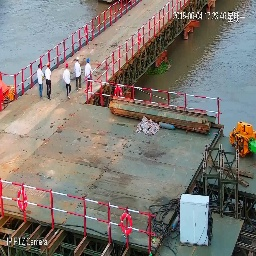helmet: (86, 57, 90, 65), (76, 56, 79, 64), (65, 63, 69, 69)
no-helmet: (38, 64, 42, 71)
no-vest: (63, 69, 70, 87), (75, 62, 81, 80), (37, 69, 43, 86), (85, 64, 91, 78), (45, 68, 51, 82)
person: (63, 62, 72, 100), (37, 63, 45, 101), (74, 56, 82, 93), (45, 62, 52, 100), (85, 56, 92, 74)
